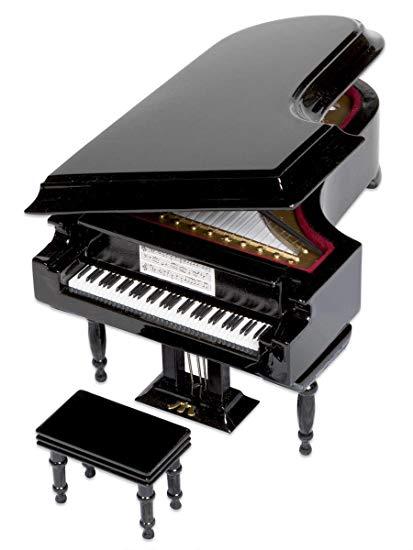GrandPiano: (29, 24, 395, 357)
